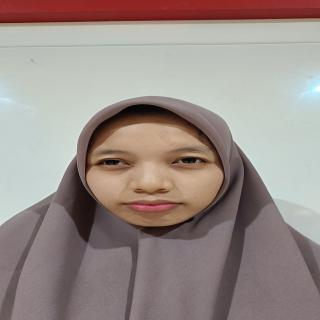Marah: (85, 109, 230, 228)
